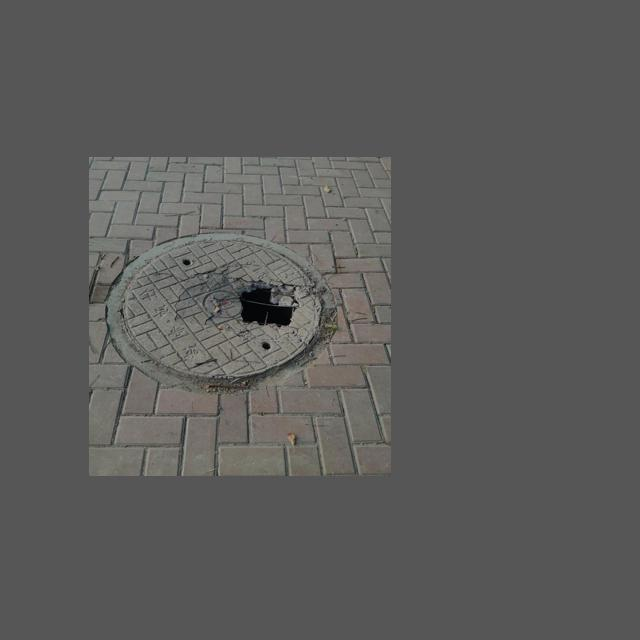broke: (102, 225, 346, 395)
